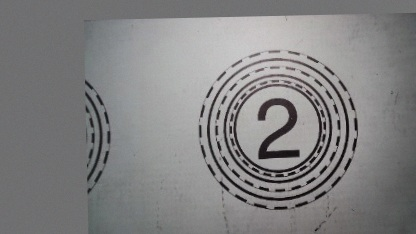2r: (192, 47, 361, 214)
